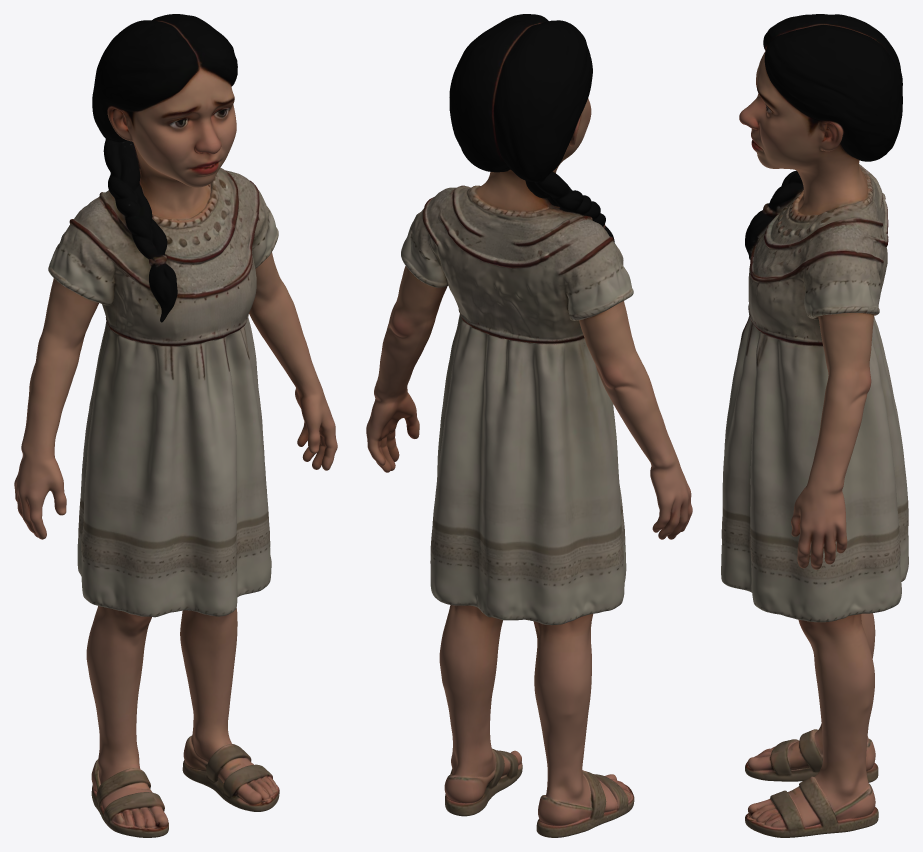
Rendered from 47-la-niña-rebelde-de-semana-santa-optimized.glb.
The picture shows the model from 3 angles, left to right: view 1: azimuth 30°, elevation 25°; view 2: azimuth 150°, elevation 25°; view 3: azimuth 270°, elevation 25°; orthographic projection.
Visible parts, largest first — view 1: tripo_node_30f23e85-f291-493e-a4af-409f79e56691; view 2: tripo_node_30f23e85-f291-493e-a4af-409f79e56691; view 3: tripo_node_30f23e85-f291-493e-a4af-409f79e56691.
Part boxes in pixels (x1=…): tripo_node_30f23e85-f291-493e-a4af-409f79e56691: x1=14, y1=14, x2=337, y2=837; tripo_node_30f23e85-f291-493e-a4af-409f79e56691: x1=366, y1=14, x2=692, y2=837; tripo_node_30f23e85-f291-493e-a4af-409f79e56691: x1=721, y1=14, x2=908, y2=837.
Bounding box in the file's own units: 0.4224 × 1 × 0.2191.
1 material, 1 textured.
